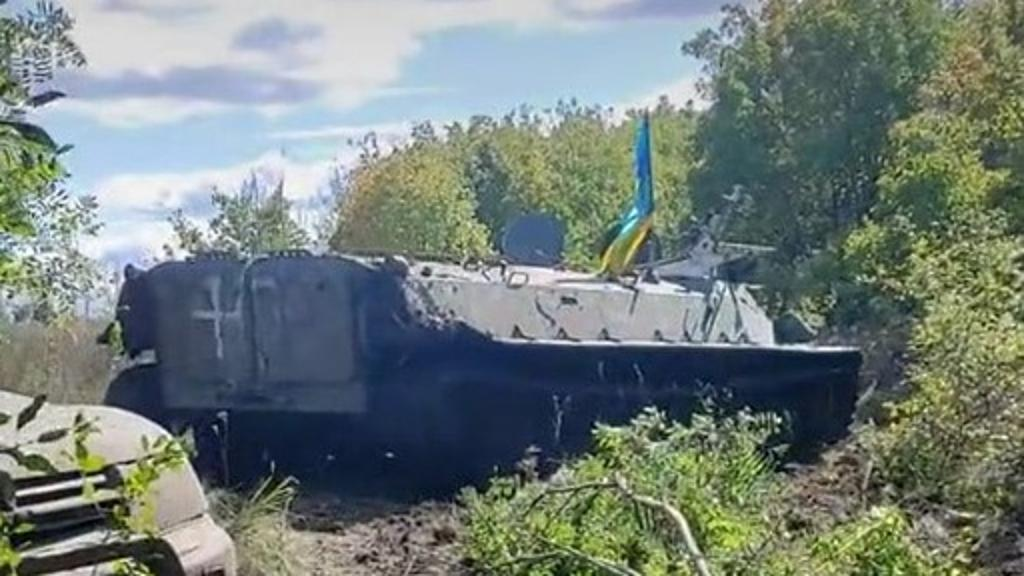APC-IFV: (106, 224, 866, 500)
